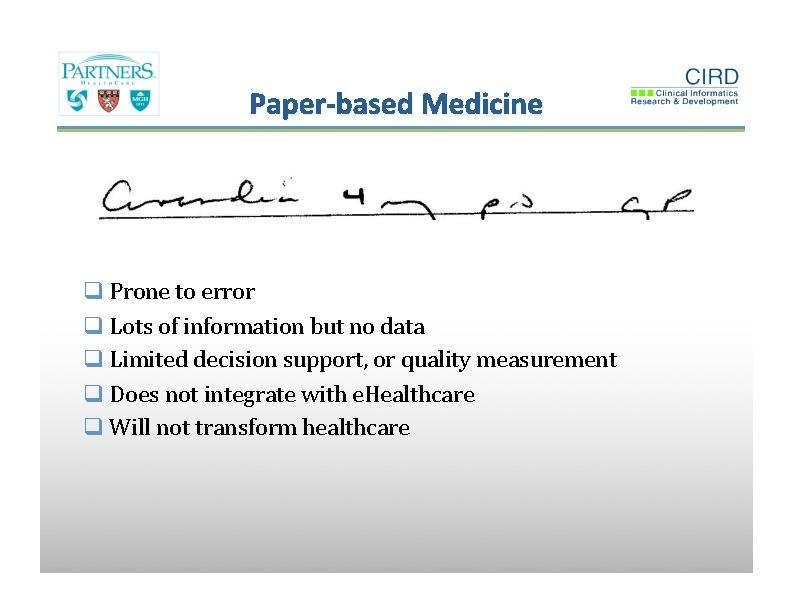paragraph: (61, 228, 688, 473)
title: (235, 76, 554, 123)
